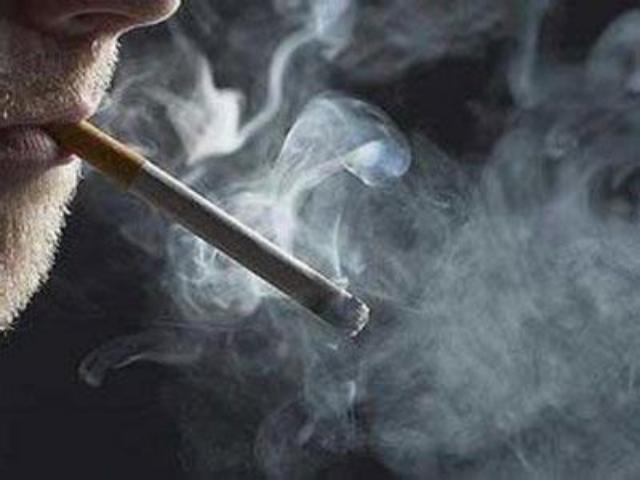Smoking: (53, 113, 375, 341)
